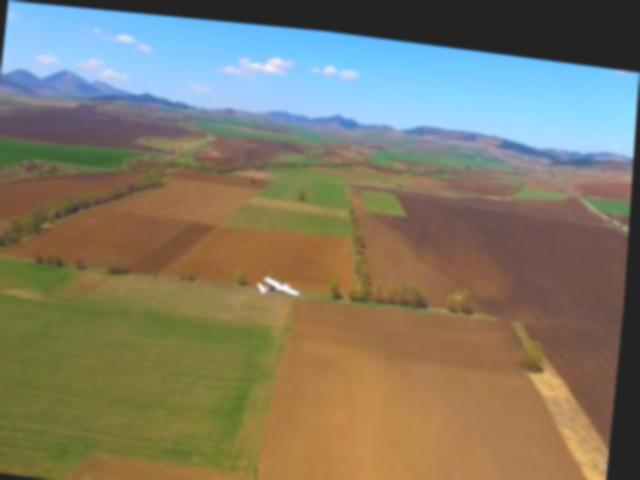uav: (252, 258, 313, 305)
